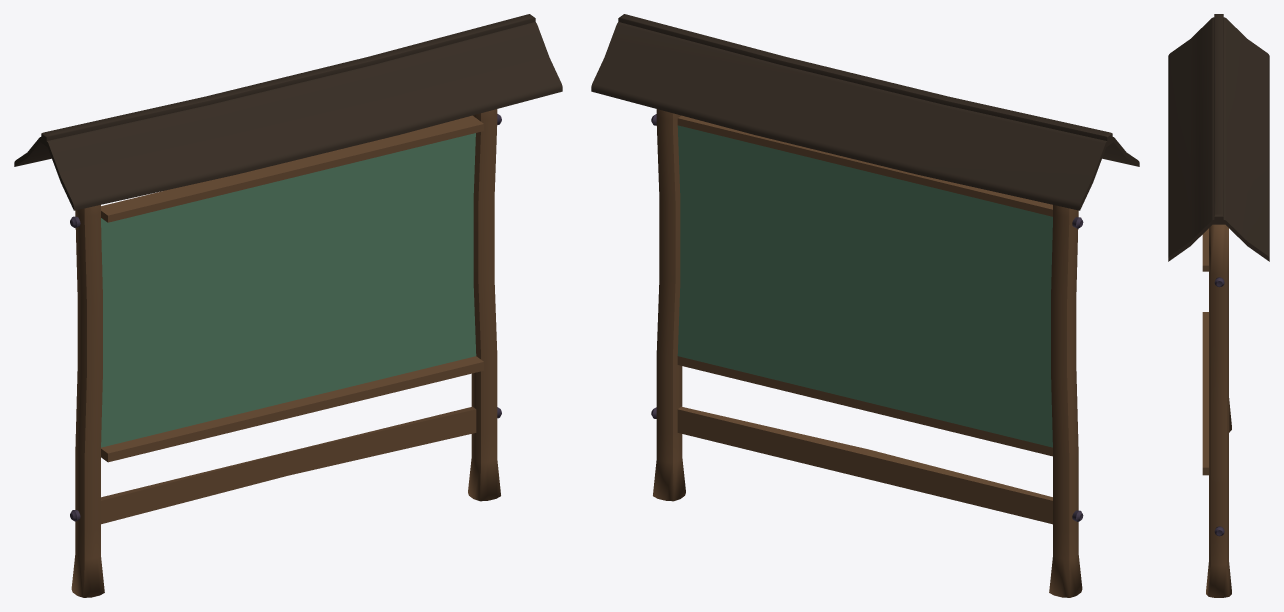
The model's file is mainmenu_board_simple.fbx.
3 views of the same model, side by side, from view 1: azimuth 30°, elevation 25°; view 2: azimuth 150°, elevation 25°; view 3: azimuth 270°, elevation 25° (orthographic). The views are drawn at different scales.
Visible parts, largest first — view 1: tent_normal.004; view 2: tent_normal.004; view 3: tent_normal.004.
Part boxes in pixels (<box>): tent_normal.004: <box>14,14,562,597</box>; tent_normal.004: <box>591,14,1139,597</box>; tent_normal.004: <box>1168,14,1269,597</box>.
Size of the model in its own units: 345 by 315 by 73.09.
